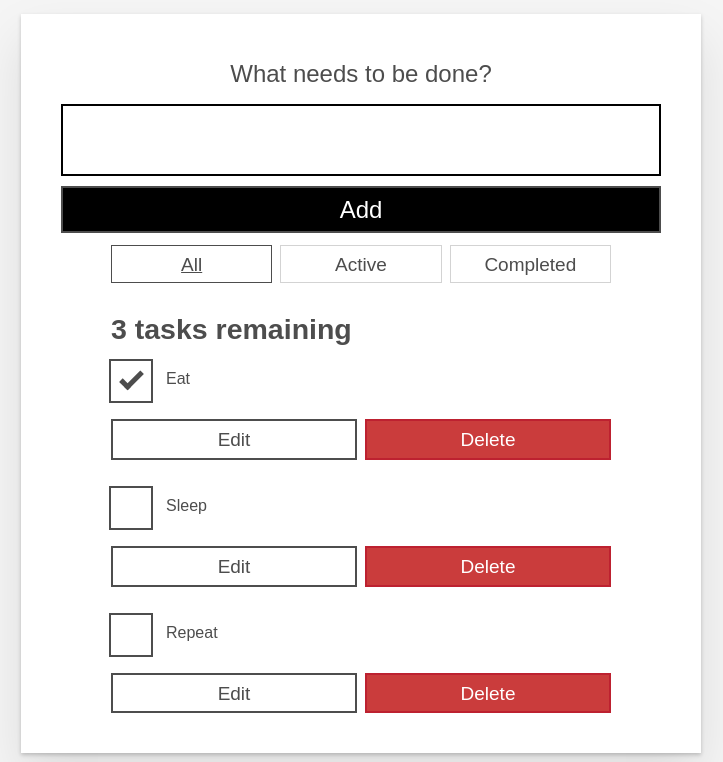
todo management › allows to edit a task
Click the 1st button "Edit" at coordinates (234, 440), box [111,419,357,460]
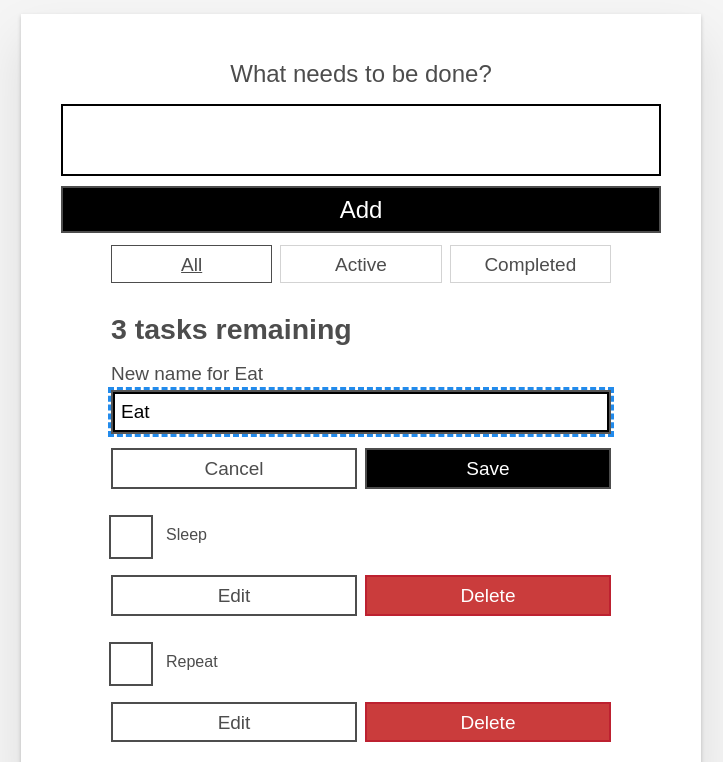
expect the field with class "todo-text" holds "Eat": met
Type "test" into the field with class "todo-text" at coordinates (361, 412), box [111,390,611,434]
Then press Enter
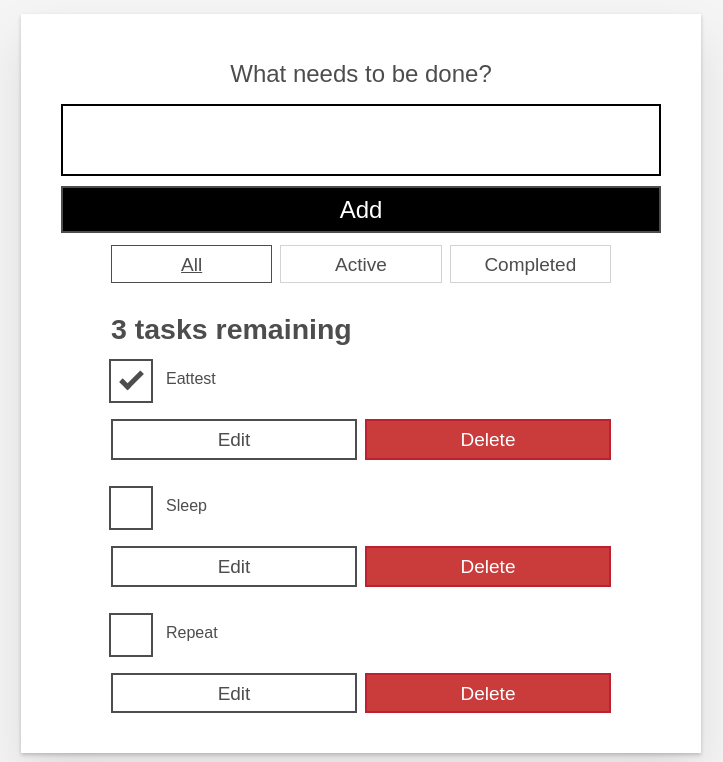
expect the checkbox with class "todo-label" reads "Eattest": met, box [151,361,231,394]
